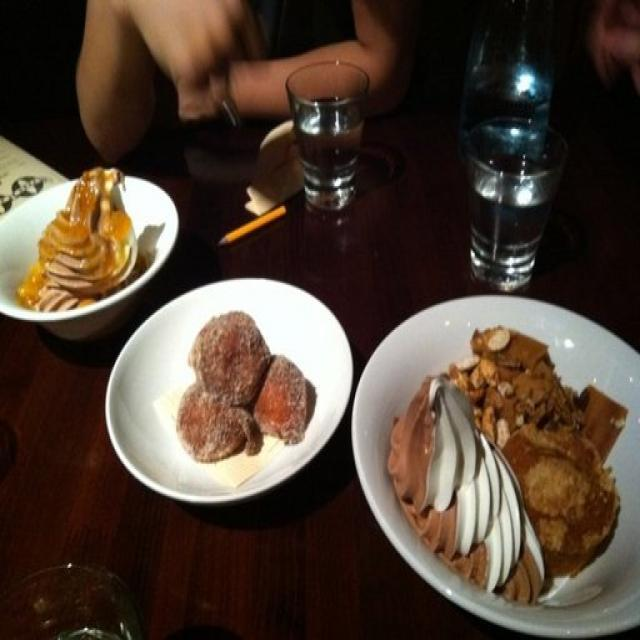Cookie: (13, 161, 145, 322)
Donuts: (159, 300, 318, 480)
